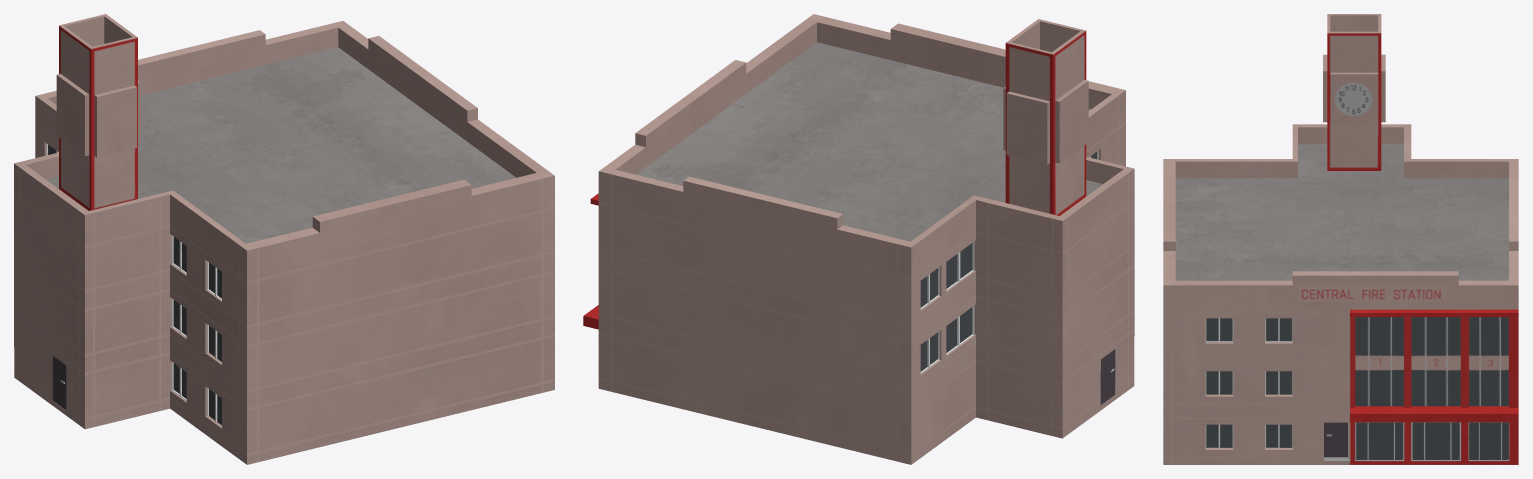
The model's file is fire_station.glb.
The picture shows the model from 3 angles, left to right: view 1: azimuth 30°, elevation 25°; view 2: azimuth 150°, elevation 25°; view 3: azimuth 270°, elevation 25°; orthographic projection. The views are drawn at different scales.
Parts seen in each view (by area): view 1: Fire_Station, Door2; view 2: Fire_Station, Window_13, Window_16, Door2, Window_17, Window_15; view 3: Fire_Station, Garage_door1, Garage_door2, Garage_door, Door1, Window_6, Window_5, Window_1, Window_2, Window_4, Window_3.
Part boxes in pixels (x1=…): Fire_Station: x1=14, y1=14, x2=554, y2=464; Door2: x1=52, y1=355, x2=66, y2=410; Fire_Station: x1=583, y1=14, x2=1134, y2=464; Window_13: x1=946, y1=242, x2=974, y2=290; Window_16: x1=946, y1=306, x2=974, y2=354; Door2: x1=1100, y1=349, x2=1114, y2=404; Window_17: x1=920, y1=331, x2=939, y2=373; Window_15: x1=920, y1=267, x2=939, y2=309; Fire_Station: x1=1163, y1=14, x2=1518, y2=464; Garage_door1: x1=1411, y1=422, x2=1460, y2=459; Garage_door2: x1=1355, y1=422, x2=1403, y2=459; Garage_door: x1=1468, y1=422, x2=1508, y2=459; Door1: x1=1324, y1=422, x2=1347, y2=457; Window_6: x1=1265, y1=318, x2=1292, y2=342; Window_5: x1=1205, y1=318, x2=1232, y2=342; Window_1: x1=1265, y1=424, x2=1292, y2=448; Window_2: x1=1205, y1=424, x2=1232, y2=448; Window_4: x1=1265, y1=371, x2=1292, y2=395; Window_3: x1=1205, y1=371, x2=1232, y2=395.
Size of the model in its own units: 2.9 by 2.43 by 2.6.
4 materials, 4 textured.
